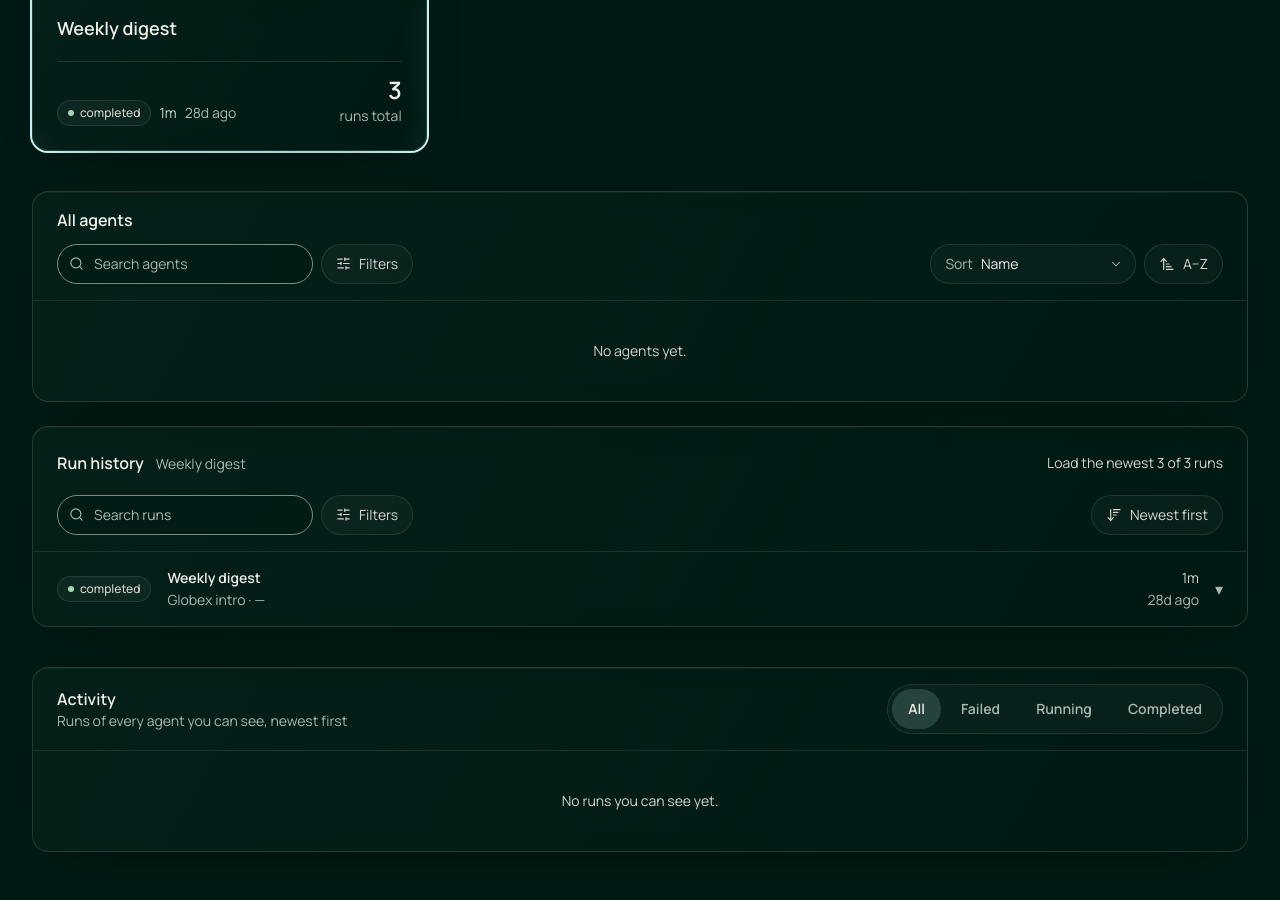
Test case: agents page run history list controls › drops a load-more answer that arrives after the view changed
(page scrolled)
Click the button "Load the newest 3 of 3 runs".
click(1135, 462)  # box x1=1039 y1=442 x2=1231 y2=482
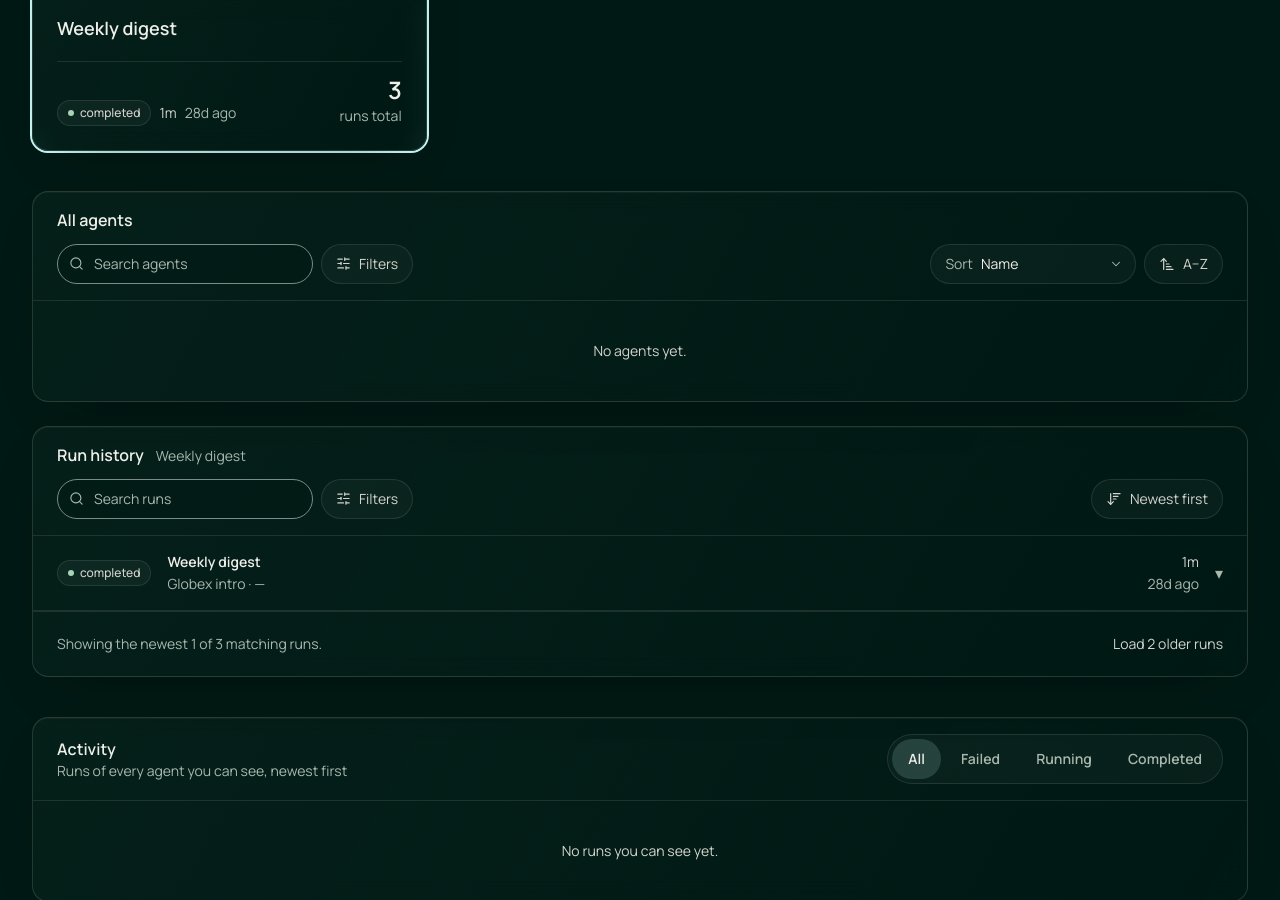
Click the button "Load 2 older runs".
click(1168, 644)  # box x1=1105 y1=624 x2=1231 y2=664
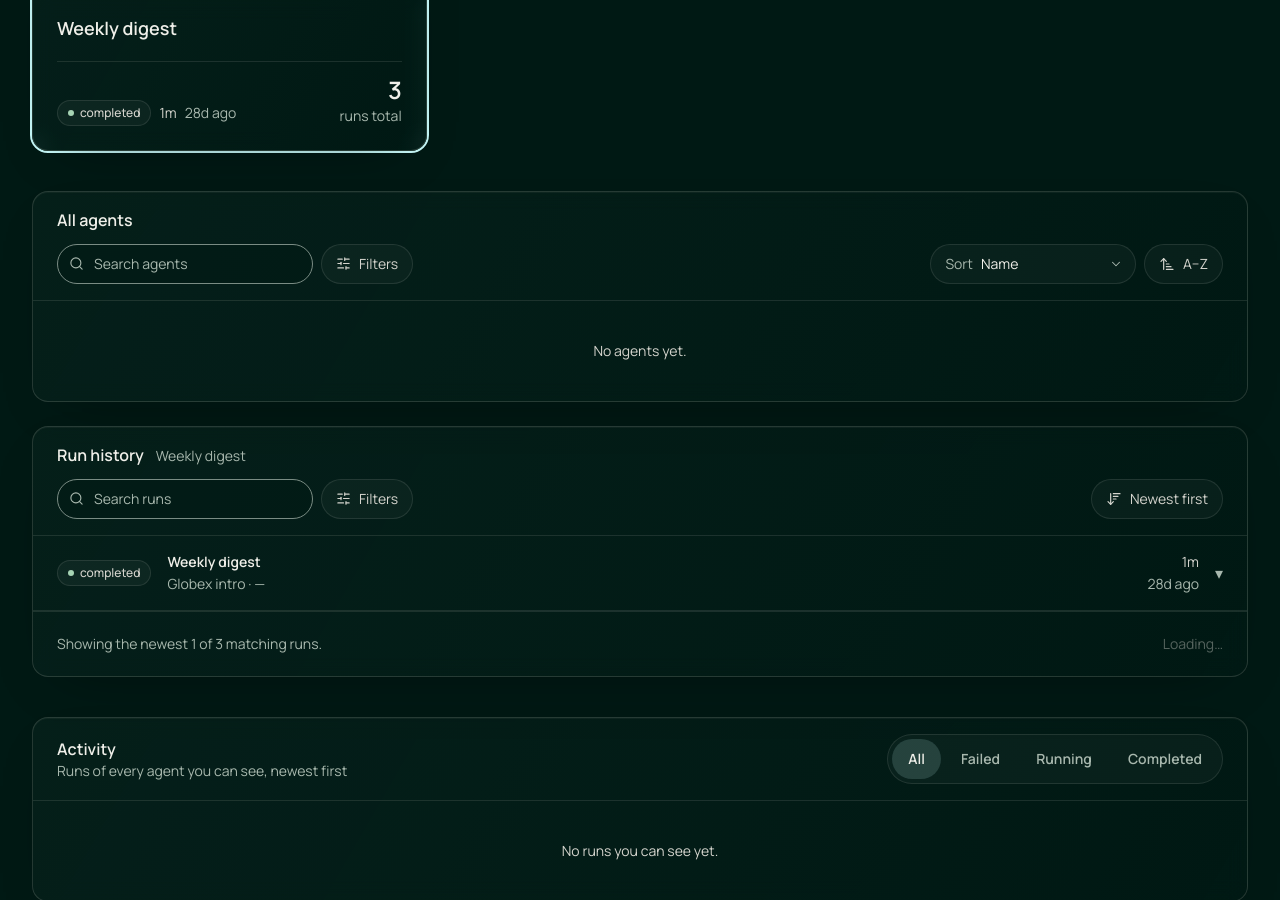
Expected: the button "Loading…" is shown, x1=1155 y1=624 x2=1231 y2=664
Click the button "Filters" below "Run history".
click(367, 498)  # box x1=321 y1=478 x2=413 y2=518
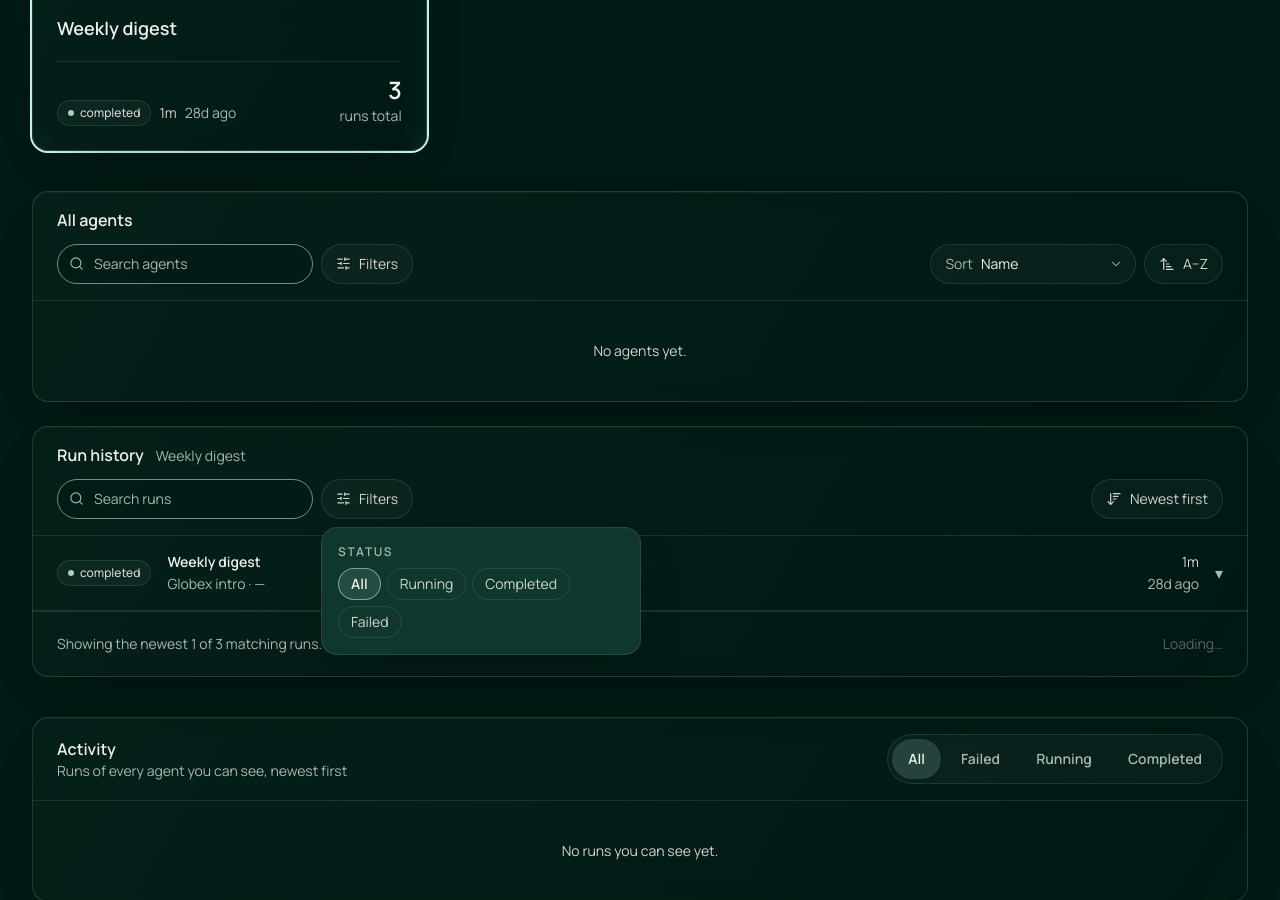
Click the button "Failed" below "Status".
click(370, 622)  # box x1=338 y1=606 x2=402 y2=638
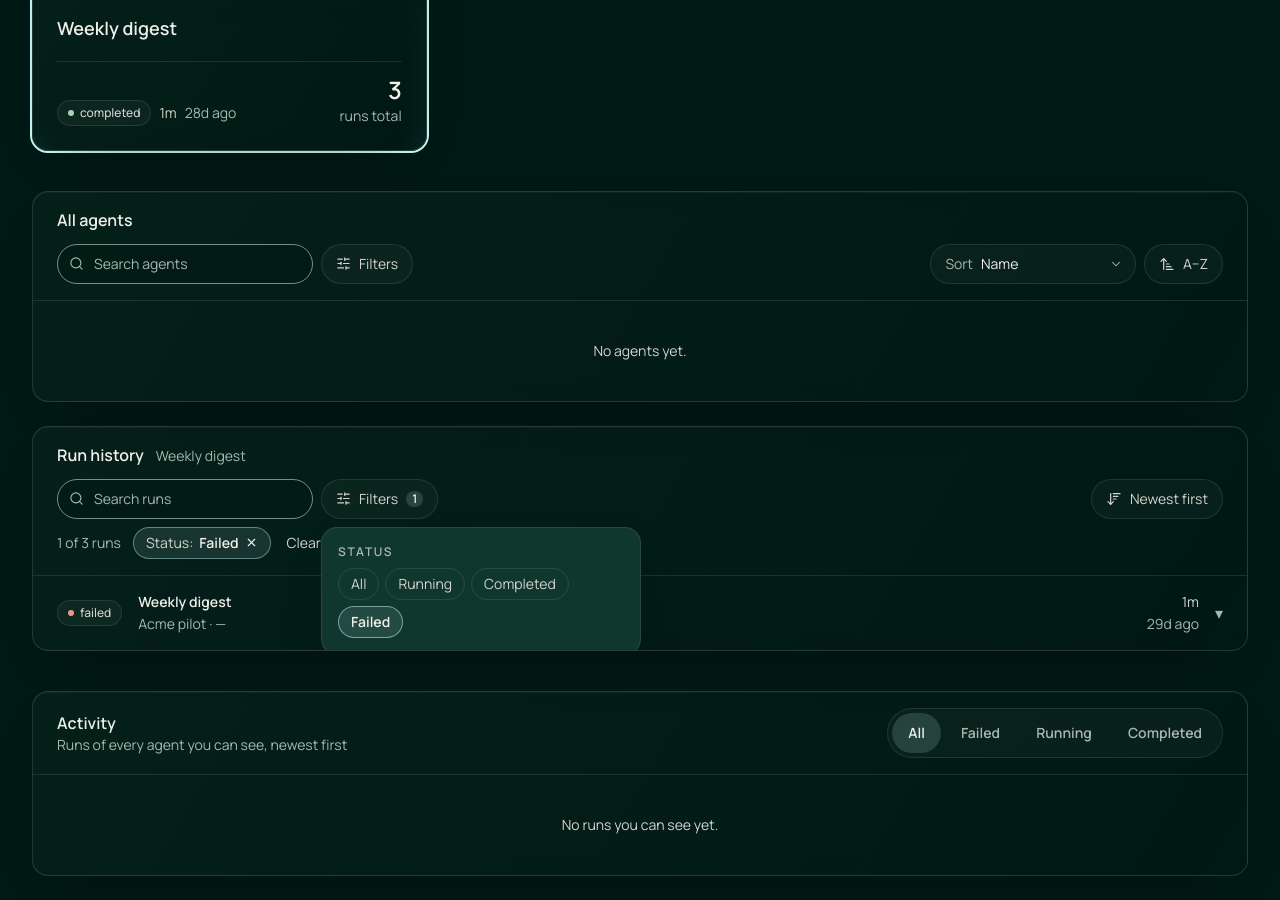
Expected: the text "Acme pilot · —" is shown, x1=138 y1=614 x2=226 y2=632
